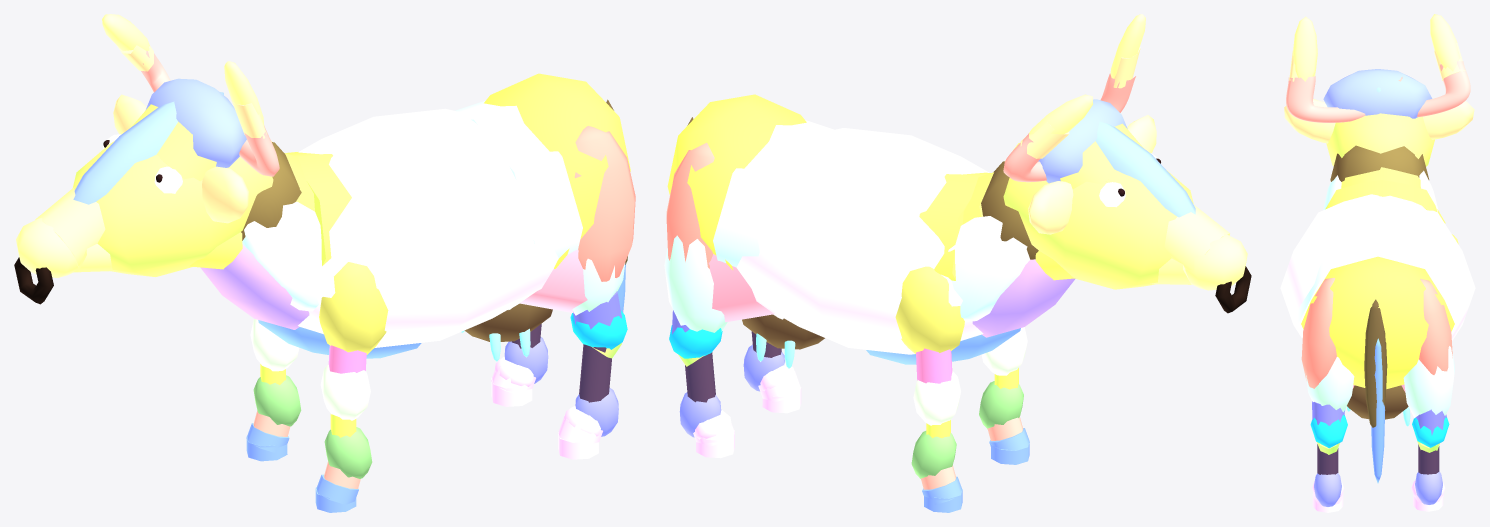
The model's file is rainbowcow.gltf.
3 renders of one model, left to right at view 1: azimuth 30°, elevation 25°; view 2: azimuth 150°, elevation 25°; view 3: azimuth 270°, elevation 25°, orthographic. The views are drawn at different scales.
Parts seen in each view (by area): view 1: Sphere (×26), Cylinder (×14), Tube, Torus; view 2: Sphere (×25), Cylinder (×10), Tube (×2), Torus; view 3: Sphere (×22), Cylinder (×10), Tube (×2).
Part boxes in pixels (x1,y1,x2,y2): Sphere (×26): (16, 14, 635, 478); Cylinder (×14): (35, 100, 621, 504); Tube: (239, 125, 279, 176); Torus: (14, 257, 53, 304); Sphere (×25): (664, 14, 1247, 478); Cylinder (×10): (685, 120, 1229, 402); Tube (×2): (1003, 73, 1135, 182); Torus: (1215, 266, 1251, 313); Sphere (×22): (1280, 14, 1475, 506); Cylinder (×10): (1298, 43, 1465, 512); Tube (×2): (1286, 61, 1470, 122).
Size of the model in its own units: 16.85 by 13.04 by 6.42.
